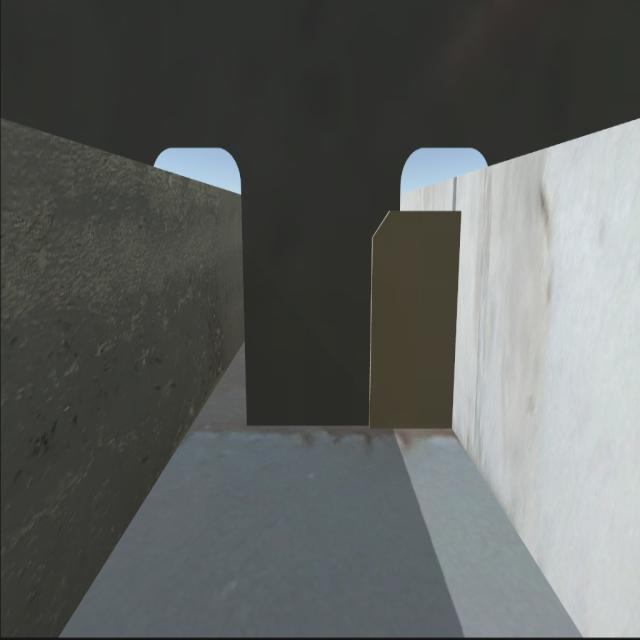fillet_yong_jeop_jang: (240, 420, 452, 433)
longi_yong_jeop_jang: (451, 216, 464, 430)
plate_CP03: (366, 198, 464, 426)
